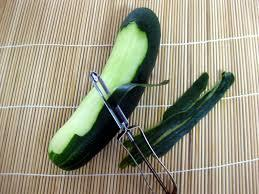Organic: (36, 6, 250, 194)
